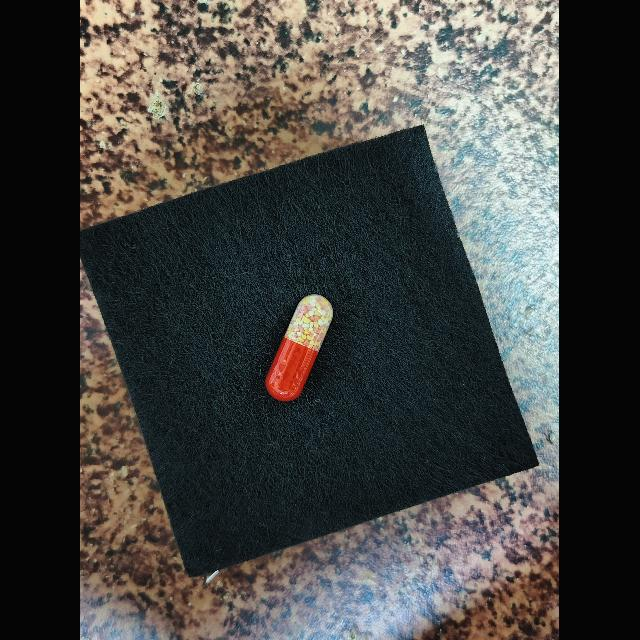Intact Capsule: (266, 294, 334, 401)
